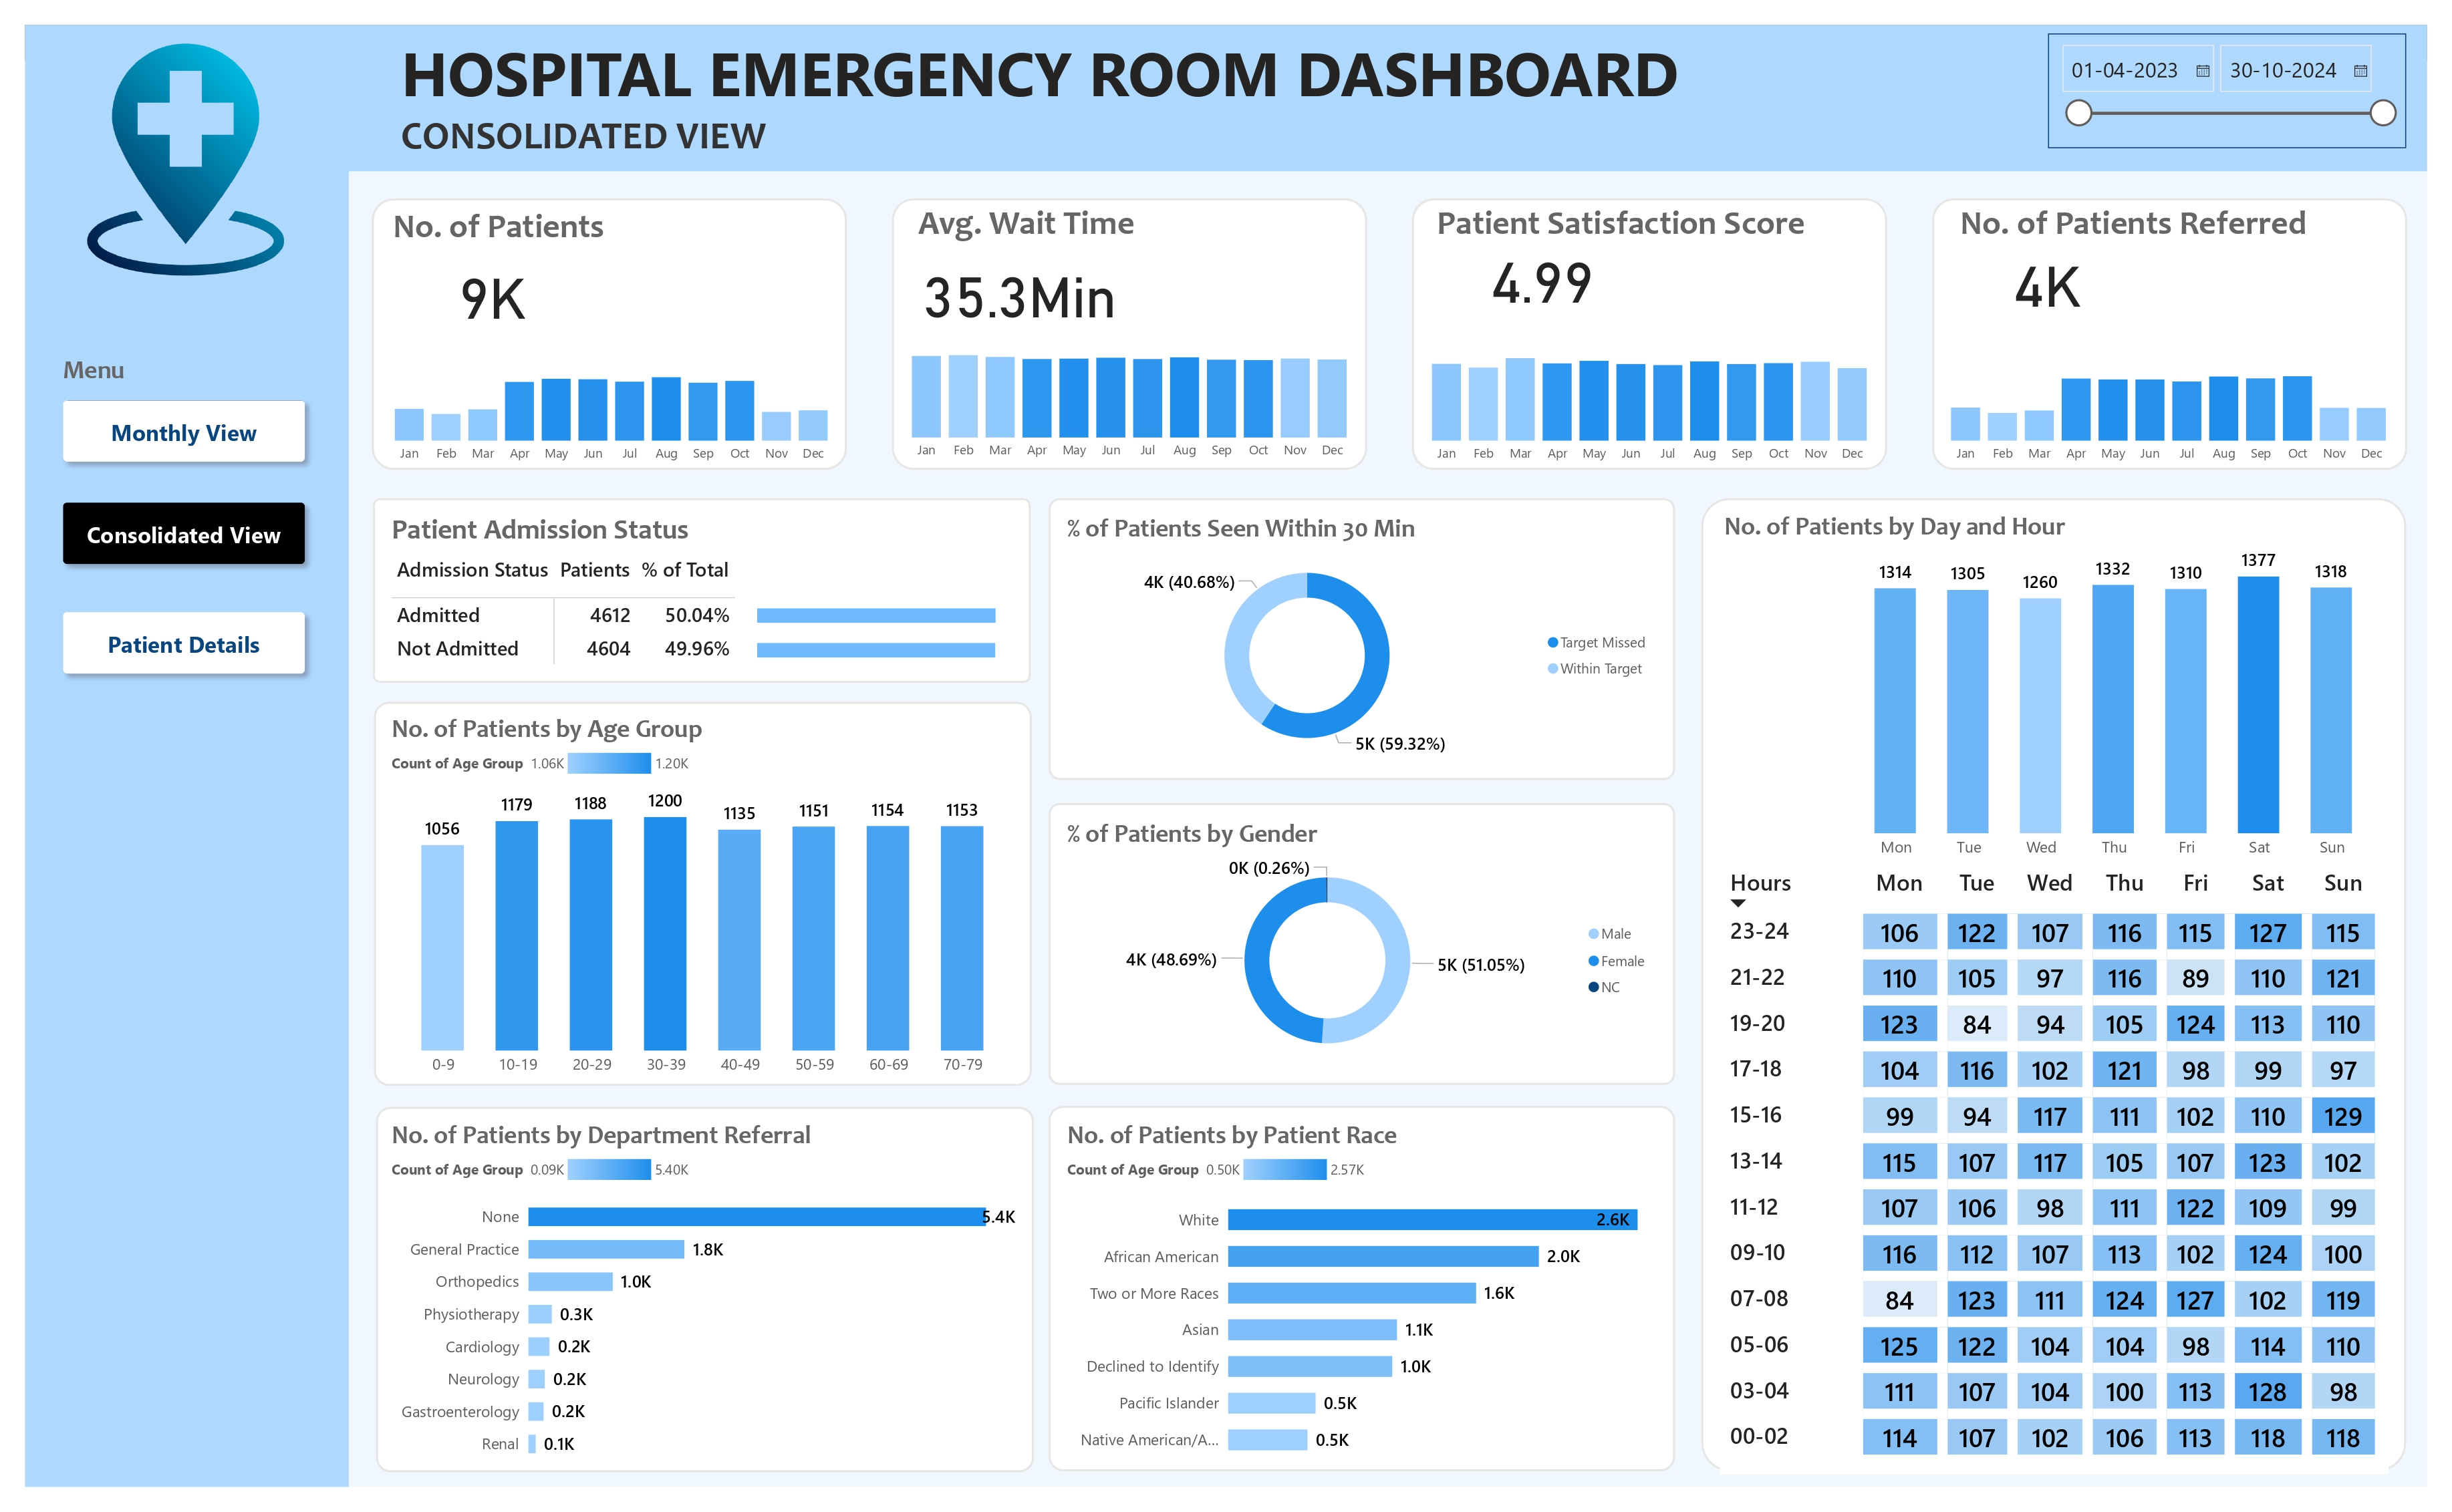

This screenshot's page, from the dashboard's own definition file:
{"tool":"powerbi","page":{"name":"Consolidated View","canvas":[2300,1400],"ordinal":1},"visuals":[{"type":"shape","box":[0,0,310,1400],"z":0},{"type":"shape","box":[310,0,1990,140],"z":1000},{"type":"textbox","box":[355,0,1250,140],"z":2000},{"type":"textbox","box":[355,76.7,365,63.3],"z":3000},{"type":"slicer","fields":{"Values":["Date Table.Date"]},"box":[1936.7,8.3,343.3,110],"z":4000},{"type":"shape","box":[333.3,453.3,630,177],"z":5000},{"type":"pivotTable","title":"Patient Admission Status","fields":{"Rows":["Hospital ER_Data.Admission Status"],"Values":["Hospital ER_Data.No. of Patients1","Hospital ER_Data.No. of Patients"]},"box":[346,467,349,163],"z":6000},{"type":"barChart","fields":{"Category":["Hospital ER_Data.Admission Status"],"Y":["Hospital ER_Data.No. of Patients"]},"box":[695.7,528.6,307.1,101.4],"z":7000},{"type":"shape","box":[334,648,630,368],"z":8000},{"type":"clusteredColumnChart","fields":{"Category":["Hospital ER_Data.Age Group"],"Y":["Hospital ER_Data.No. of Patients"]},"box":[346.2,658.8,606.2,357.5],"z":9000},{"type":"shape","box":[336,1036,630,350],"z":10000},{"type":"clusteredBarChart","fields":{"Category":["Hospital ER_Data.Department Referral"],"Y":["Hospital ER_Data.No. of Patients"]},"box":[346.2,1047.5,606.2,338.8],"z":11000},{"type":"shape","box":[980,452.5,600,270],"z":12000},{"type":"donutChart","title":"% of Patients Seen Within 30 Min","fields":{"Y":["Hospital ER_Data.No. of Patients"],"Category":["Hospital ER_Data.Waittime Status"]},"box":[992.9,467.1,572.9,242.9],"z":13000},{"type":"shape","box":[980,744.5,600,270],"z":14000},{"type":"donutChart","title":"% of Patients by Gender","fields":{"Y":["Hospital ER_Data.No. of Patients"],"Category":["Hospital ER_Data.Patient Gender"]},"box":[992.9,759.1,572.9,242.9],"z":15000},{"type":"shape","box":[980,1035,600,350],"z":16000},{"type":"clusteredBarChart","fields":{"Y":["Hospital ER_Data.No. of Patients"],"Category":["Hospital ER_Data.Patient Race"]},"box":[992.5,1047.5,585,337.5],"z":17000},{"type":"shape","box":[1605,452.5,675,932.5],"z":18000},{"type":"pivotTable","fields":{"Rows":["Hospital ER_Data.Waittime Interval"],"Columns":["Date Table.Day Name"],"Values":["Hospital ER_Data.No. of Patients"]},"box":[1622.5,800,640,587.5],"z":19000},{"type":"clusteredColumnChart","title":"No. of Patients by Day and Hour","fields":{"Y":["Hospital ER_Data.No. of Patients"],"Category":["Date Table.Day Name"]},"box":[1738.3,486.7,525,321.7],"z":20000},{"type":"textbox","box":[1621.7,460,658.3,51.7],"z":21000},{"type":"image","box":[42,16.7,223.3,223.3],"z":22000},{"type":"actionButton","box":[26.7,350,250,76.7],"z":23000},{"type":"actionButton","box":[26.7,448.3,250,76.7],"z":24000},{"type":"actionButton","box":[26.7,553.3,250,76.7],"z":25000},{"type":"textbox","box":[26,310,163,40],"z":26000},{"type":"shape","box":[332,166.2,455,260],"z":27000},{"type":"cardVisual","fields":{"Data":["Hospital ER_Data.No. of Patients"]},"box":[335,210,225,100],"z":28000},{"type":"textbox","box":[346.7,168.3,441.7,50],"z":29000},{"type":"columnChart","fields":{"Category":["Date Table.Month Name"],"Y":["Hospital ER_Data.No. of Patients"]},"box":[335,295,452.5,132.5],"z":30000},{"type":"shape","box":[830,166,455,260],"z":31000},{"type":"cardVisual","fields":{"Data":["Hospital ER_Data.Avg. Wait Time"]},"box":[830,207.5,245,102.5],"z":32000},{"type":"textbox","box":[850,165,430,53.3],"z":33000},{"type":"columnChart","fields":{"Category":["Date Table.Month Name"],"Y":["Avg(Hospital ER_Data.Patient Waittime)"]},"box":[830,295,455,130],"z":34000},{"type":"shape","box":[1328,166,455,260],"z":35000},{"type":"textbox","box":[1346.7,165,431.7,53.3],"z":36000},{"type":"shape","box":[1826,166,455,260],"z":37000},{"type":"cardVisual","fields":{"Data":["Hospital ER_Data.No. Of Patients Referred"]},"box":[1825,187.5,222.5,122.5],"z":38000},{"type":"columnChart","fields":{"Category":["Date Table.Month Name"],"Y":["Hospital ER_Data.No.of Patients Referred"]},"box":[1825,295,455,132.5],"z":39000},{"type":"cardVisual","fields":{"Data":["Hospital ER_Data.Avg. Satisfaction Score"]},"box":[1327.5,192.5,250,105],"z":40000},{"type":"columnChart","fields":{"Category":["Date Table.Month Name"],"Y":["Hospital ER_Data.Avg. Satisfaction Score"]},"box":[1327.5,295,455,132.5],"z":41000},{"type":"textbox","box":[1848.3,165,435,53.3],"z":42000}]}

Visuals, with their boxes on the page's 2300x1400 design canvas (x1, y1, x2, y2). These are canvas units, not pixel positions in the 2452x1512 screenshot, which may show the page scaled, cropped or inside an application window:
shape: box=[0, 0, 310, 1400]
shape: box=[310, 0, 2300, 140]
textbox: box=[355, 0, 1605, 140]
textbox: box=[355, 77, 720, 140]
slicer - Date Table.Date: box=[1937, 8, 2280, 118]
shape: box=[333, 453, 963, 630]
"Patient Admission Status" pivotTable: box=[346, 467, 695, 630]
barChart - Hospital ER_Data.Admission Status x Hospital ER_Data.No. of Patients: box=[696, 529, 1003, 630]
shape: box=[334, 648, 964, 1016]
clusteredColumnChart - Hospital ER_Data.Age Group x Hospital ER_Data.No. of Patients: box=[346, 659, 952, 1016]
shape: box=[336, 1036, 966, 1386]
clusteredBarChart - Hospital ER_Data.Department Referral x Hospital ER_Data.No. of Patients: box=[346, 1048, 952, 1386]
shape: box=[980, 452, 1580, 722]
"% of Patients Seen Within 30 Min" donutChart: box=[993, 467, 1566, 710]
shape: box=[980, 744, 1580, 1014]
"% of Patients by Gender" donutChart: box=[993, 759, 1566, 1002]
shape: box=[980, 1035, 1580, 1385]
clusteredBarChart - Hospital ER_Data.No. of Patients x Hospital ER_Data.Patient Race: box=[992, 1048, 1578, 1385]
shape: box=[1605, 452, 2280, 1385]
pivotTable - Hospital ER_Data.Waittime Interval x Date Table.Day Name: box=[1622, 800, 2262, 1388]
"No. of Patients by Day and Hour" clusteredColumnChart: box=[1738, 487, 2263, 808]
textbox: box=[1622, 460, 2280, 512]
image: box=[42, 17, 265, 240]
actionButton: box=[27, 350, 277, 427]
actionButton: box=[27, 448, 277, 525]
actionButton: box=[27, 553, 277, 630]
textbox: box=[26, 310, 189, 350]
shape: box=[332, 166, 787, 426]
cardVisual - Hospital ER_Data.No. of Patients: box=[335, 210, 560, 310]
textbox: box=[347, 168, 788, 218]
columnChart - Date Table.Month Name x Hospital ER_Data.No. of Patients: box=[335, 295, 788, 428]
shape: box=[830, 166, 1285, 426]
cardVisual - Hospital ER_Data.Avg. Wait Time: box=[830, 208, 1075, 310]
textbox: box=[850, 165, 1280, 218]
columnChart - Date Table.Month Name x Avg(Hospital ER_Data.Patient Waittime): box=[830, 295, 1285, 425]
shape: box=[1328, 166, 1783, 426]
textbox: box=[1347, 165, 1778, 218]
shape: box=[1826, 166, 2281, 426]
cardVisual - Hospital ER_Data.No. Of Patients Referred: box=[1825, 188, 2048, 310]
columnChart - Date Table.Month Name x Hospital ER_Data.No.of Patients Referred: box=[1825, 295, 2280, 428]
cardVisual - Hospital ER_Data.Avg. Satisfaction Score: box=[1328, 192, 1578, 298]
columnChart - Date Table.Month Name x Hospital ER_Data.Avg. Satisfaction Score: box=[1328, 295, 1782, 428]
textbox: box=[1848, 165, 2283, 218]
